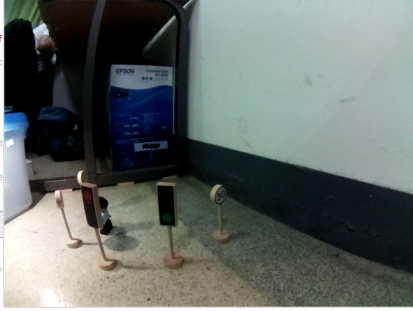Green: (155, 184, 180, 231)
Red: (79, 182, 106, 232)
Speed30: (209, 182, 230, 210)
